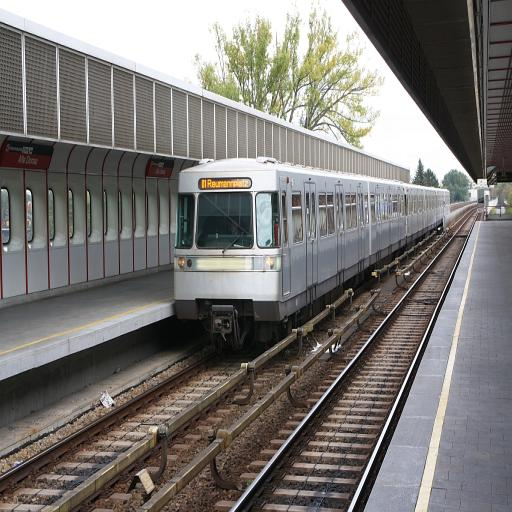Silberpfeil: (174, 154, 452, 334)
